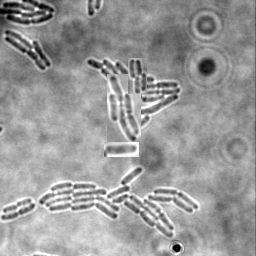Dividing: (1, 204, 37, 222), (104, 142, 139, 157), (3, 199, 33, 215)
Microcolony: (40, 167, 199, 238), (87, 59, 181, 136), (107, 74, 141, 142), (5, 30, 52, 72), (1, 1, 56, 26), (128, 58, 147, 94)
